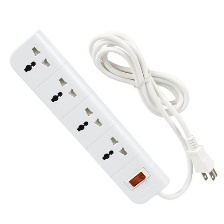three_eye_plug: (7, 25, 172, 208)
